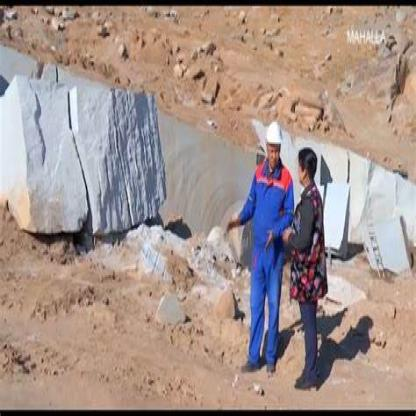person: (222, 100, 295, 383), (290, 141, 341, 388)
